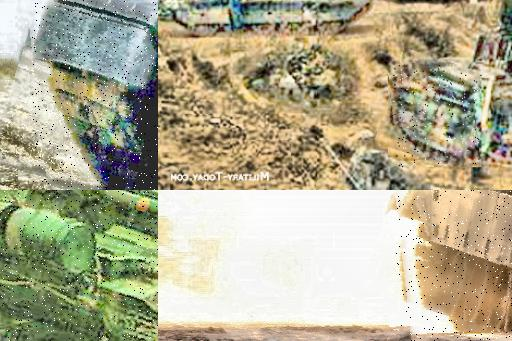tanks: (33, 1, 159, 191), (1, 191, 159, 341), (397, 191, 512, 335), (393, 66, 482, 168), (167, 1, 373, 32), (474, 32, 512, 162)
